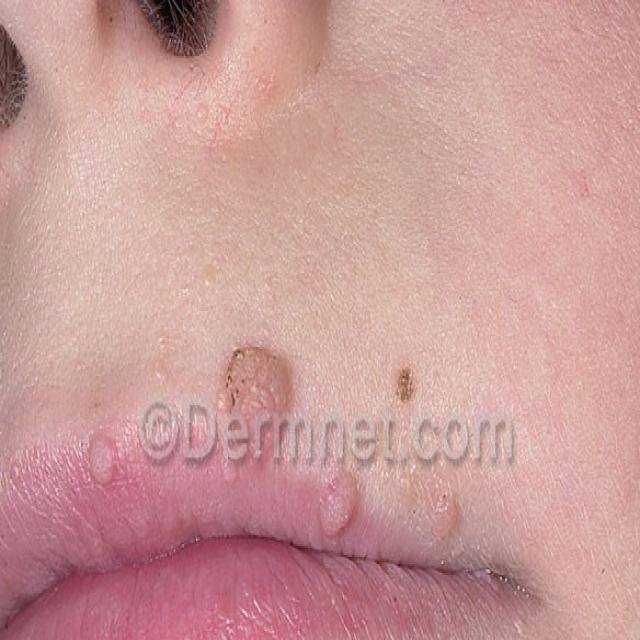Warts: (225, 330, 288, 478), (310, 455, 374, 548), (426, 464, 476, 559), (81, 422, 134, 504), (389, 336, 425, 411)
